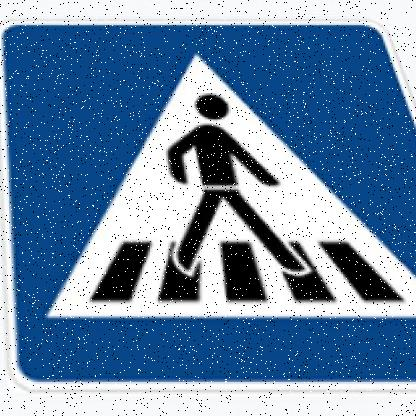Pedestrian Crossing: (1, 13, 416, 391)
